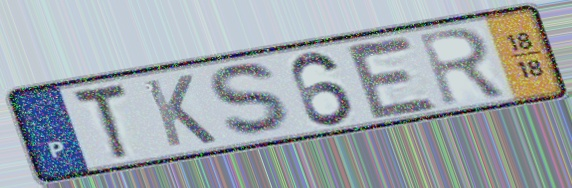6: (286, 48, 355, 129)
E: (340, 34, 443, 122)
K: (140, 72, 221, 150)
R: (413, 24, 510, 110)
S: (206, 61, 301, 140)
T: (67, 80, 135, 163)
